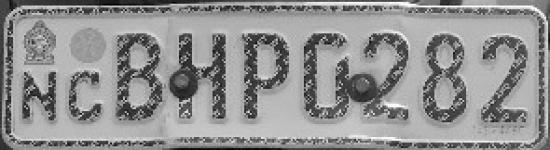0: (296, 25, 359, 125)
2: (473, 29, 535, 135), (359, 25, 417, 132)
8: (418, 28, 471, 133)
B: (114, 28, 168, 129)
C: (66, 65, 107, 126)
H: (174, 28, 234, 126)
N: (18, 68, 62, 128)
P: (232, 24, 294, 127)
